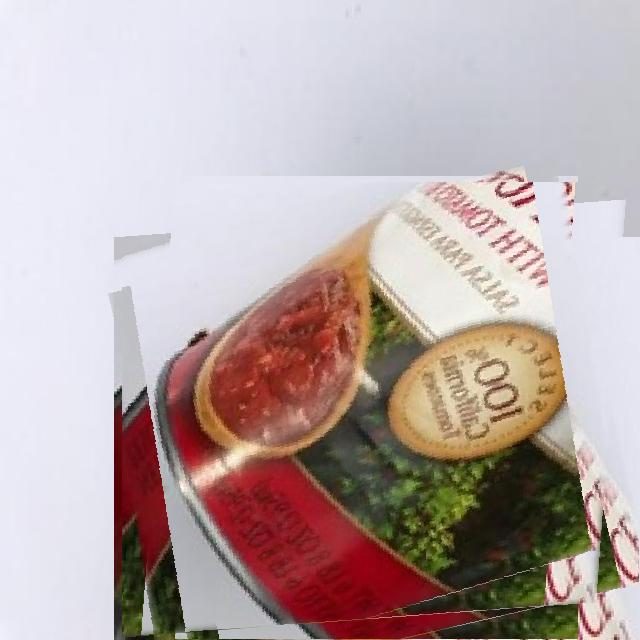recyclable: (122, 182, 630, 640)
